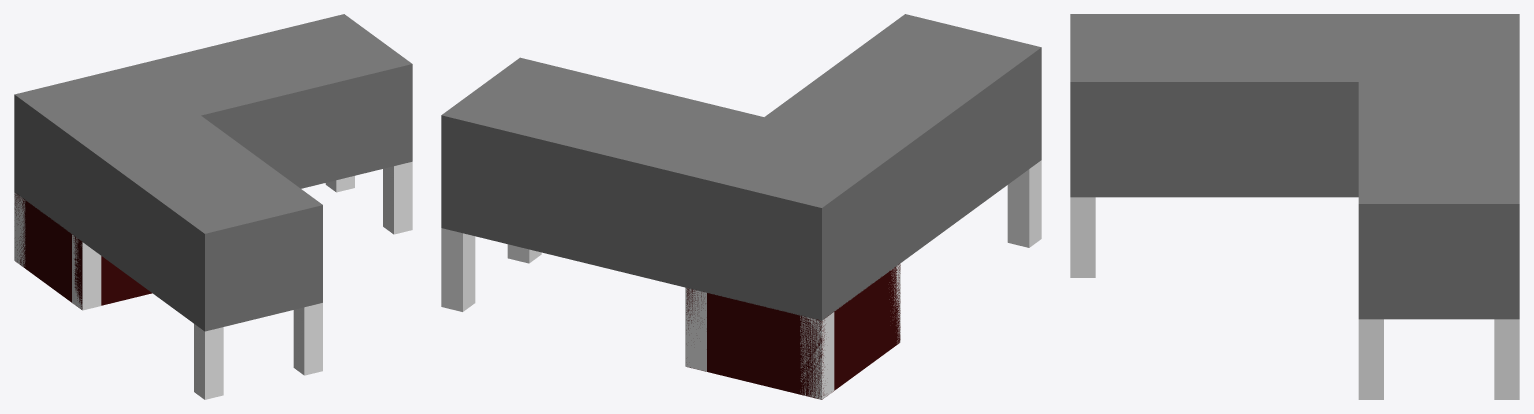
The model's file is bla.dae.
The picture shows the model from 3 angles, left to right: view 1: azimuth 30°, elevation 25°; view 2: azimuth 150°, elevation 25°; view 3: azimuth 270°, elevation 25°; orthographic projection. The views are drawn at different scales.
Visible parts, largest first — view 1: bla_Layer1, bla_Layer2, bla_Layer3; view 2: bla_Layer1, bla_Layer3, bla_Layer2; view 3: bla_Layer1, bla_Layer2.
Part boxes in pixels (<box>): bla_Layer1: <box>14,14,412,331</box>; bla_Layer2: <box>14,161,412,399</box>; bla_Layer3: <box>14,193,151,309</box>; bla_Layer1: <box>441,14,1041,320</box>; bla_Layer3: <box>686,263,900,399</box>; bla_Layer2: <box>441,160,1041,399</box>; bla_Layer1: <box>1070,14,1519,319</box>; bla_Layer2: <box>1070,197,1519,399</box>.
Bounding box in the file's own units: 530 × 255 × 530.
